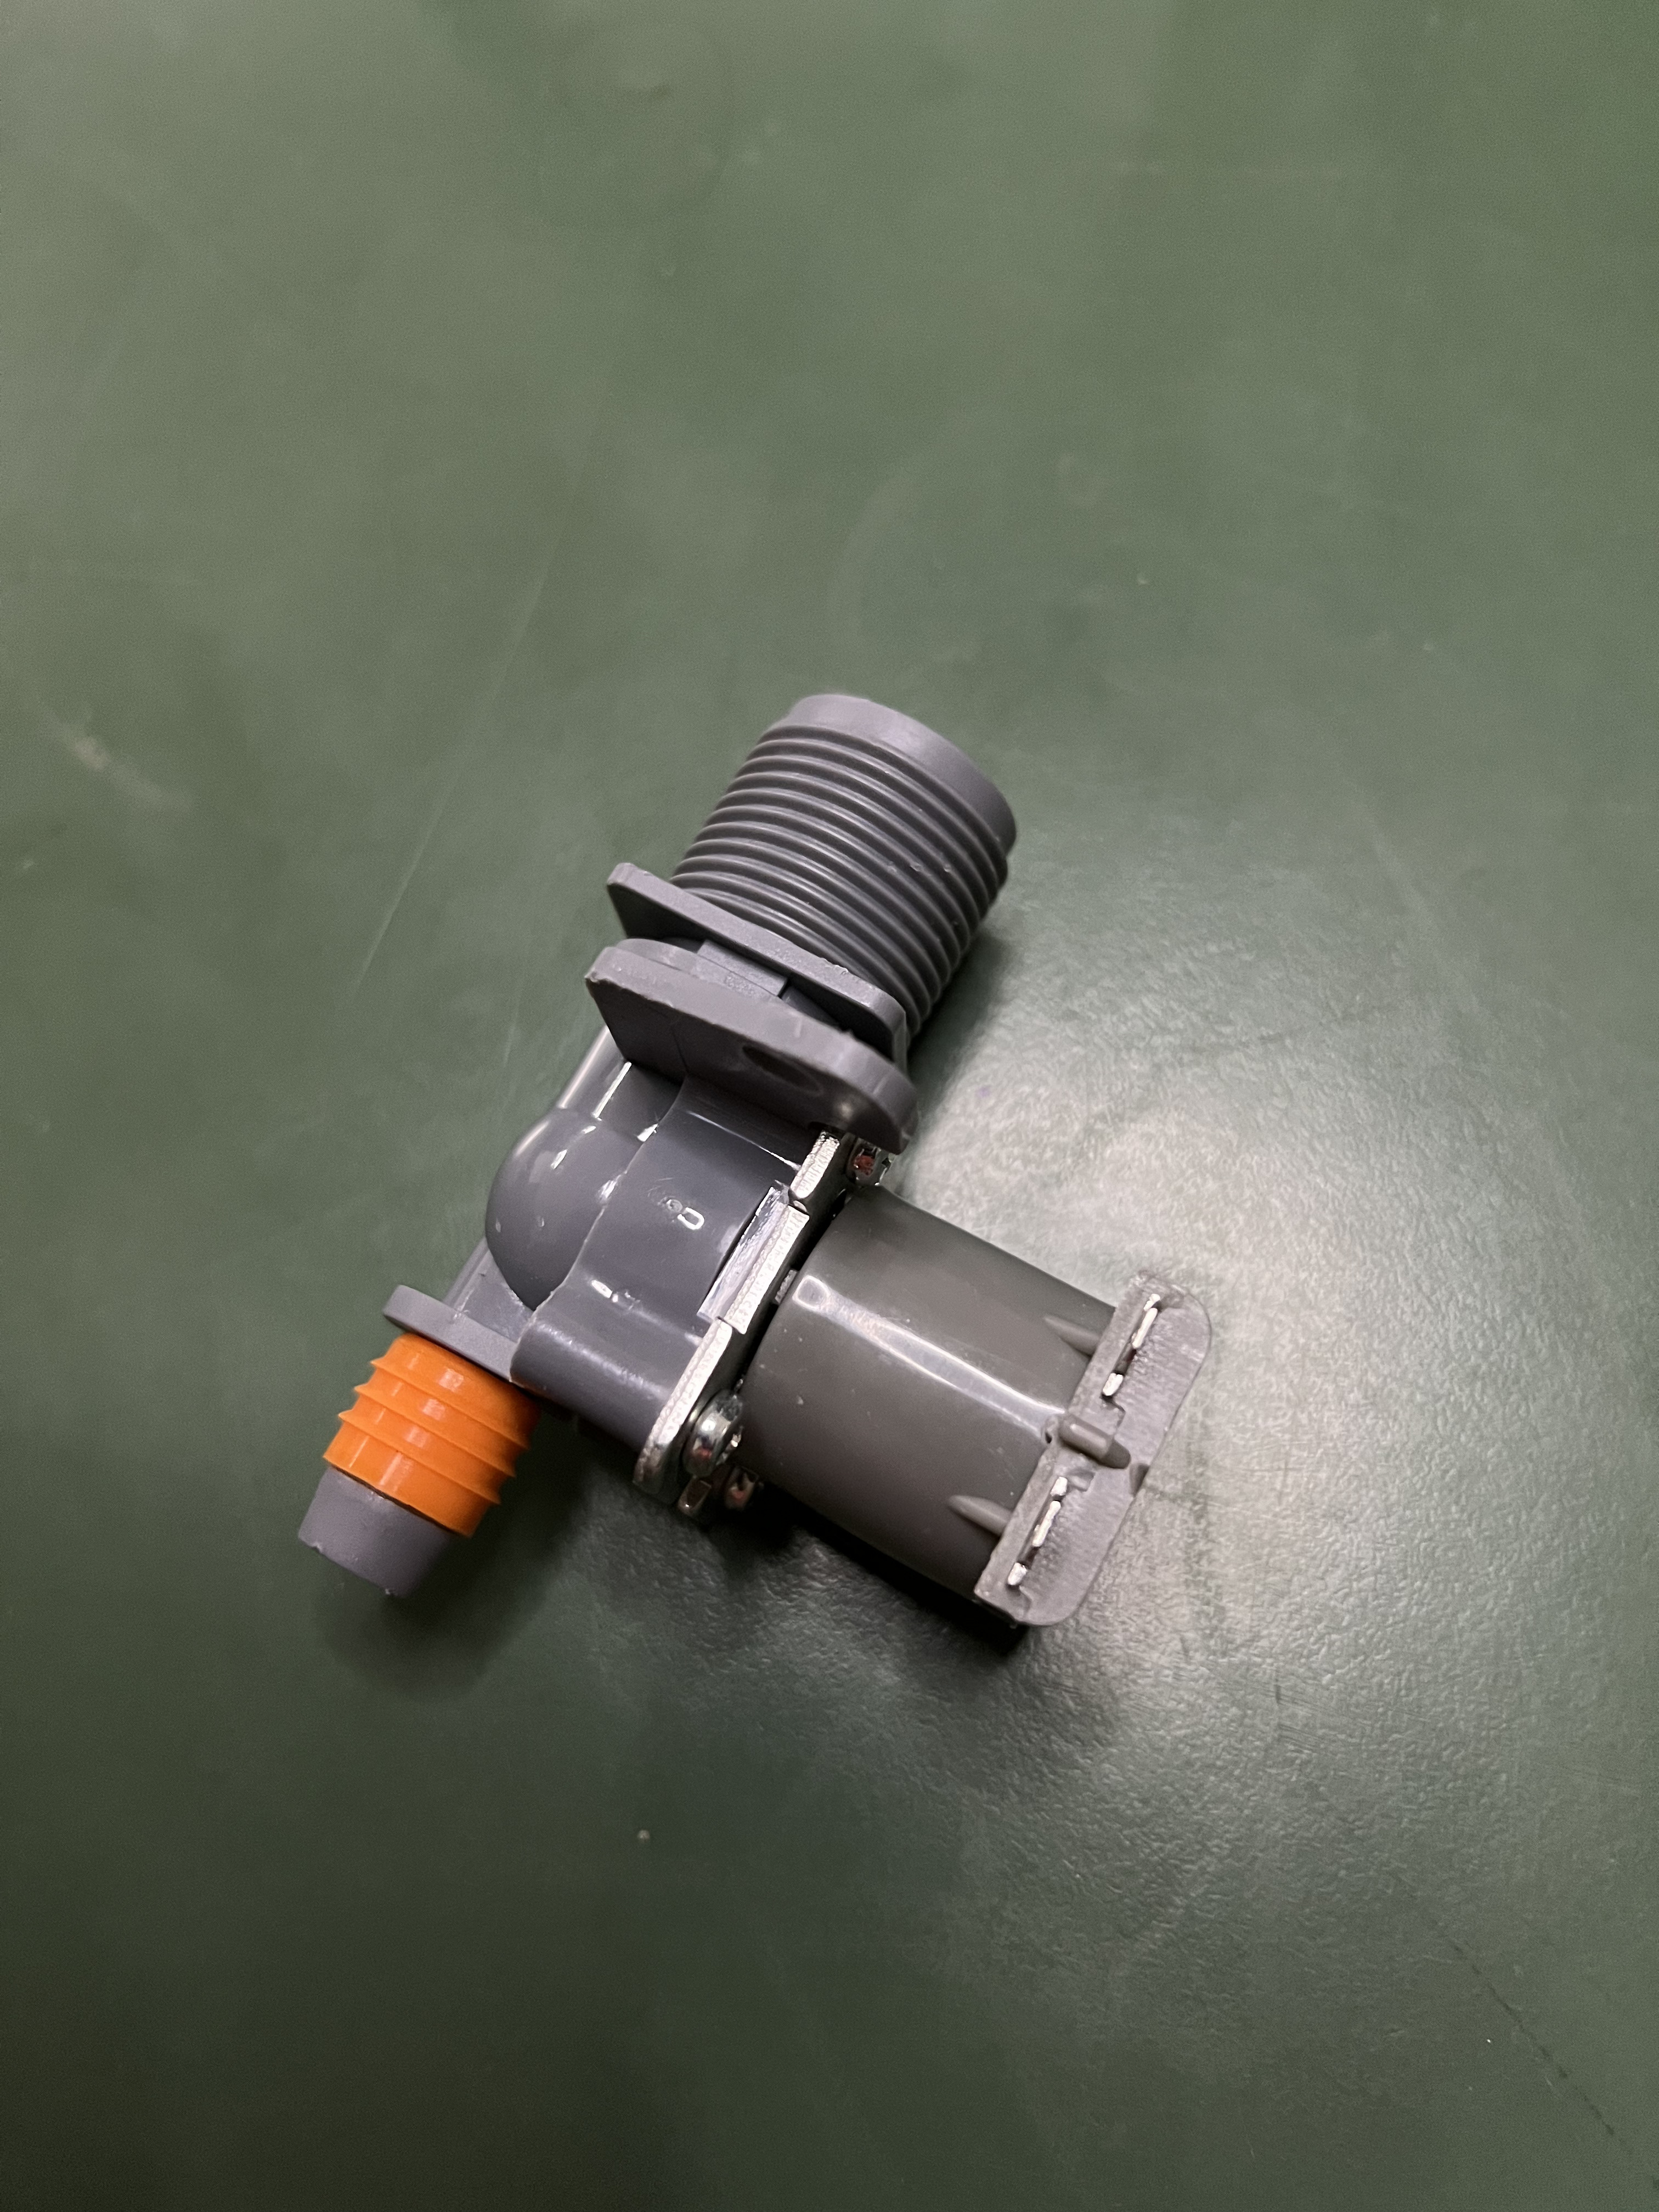inlet_valves: (281, 688, 1194, 1700)
